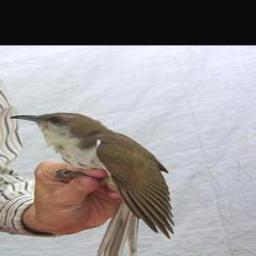Cuckoo: (7, 110, 172, 256)
